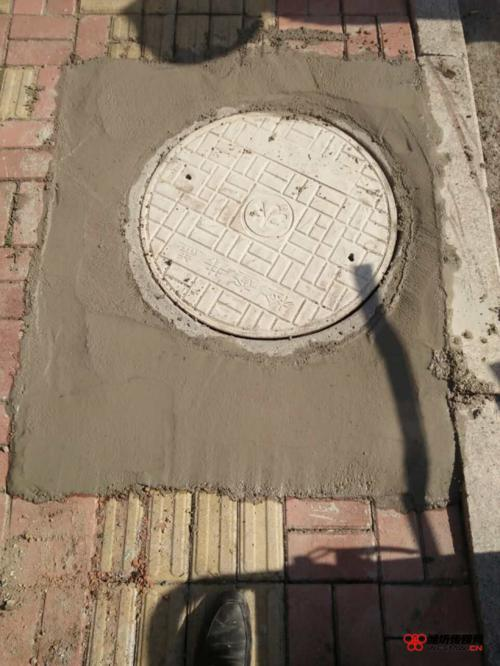good: (64, 68, 442, 477)
